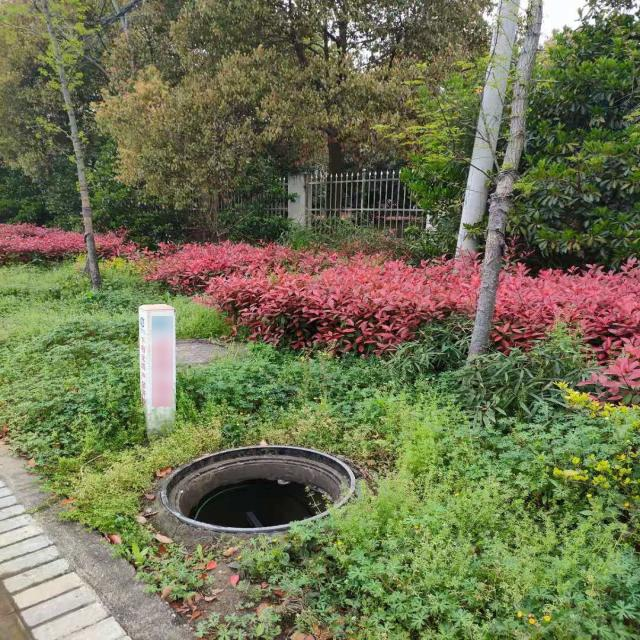Uncovered: (158, 442, 356, 534)
